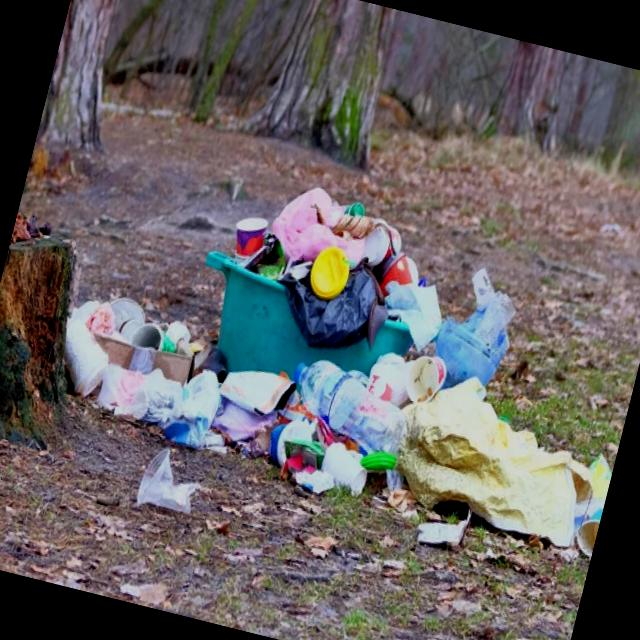garbage: (19, 107, 627, 640)
